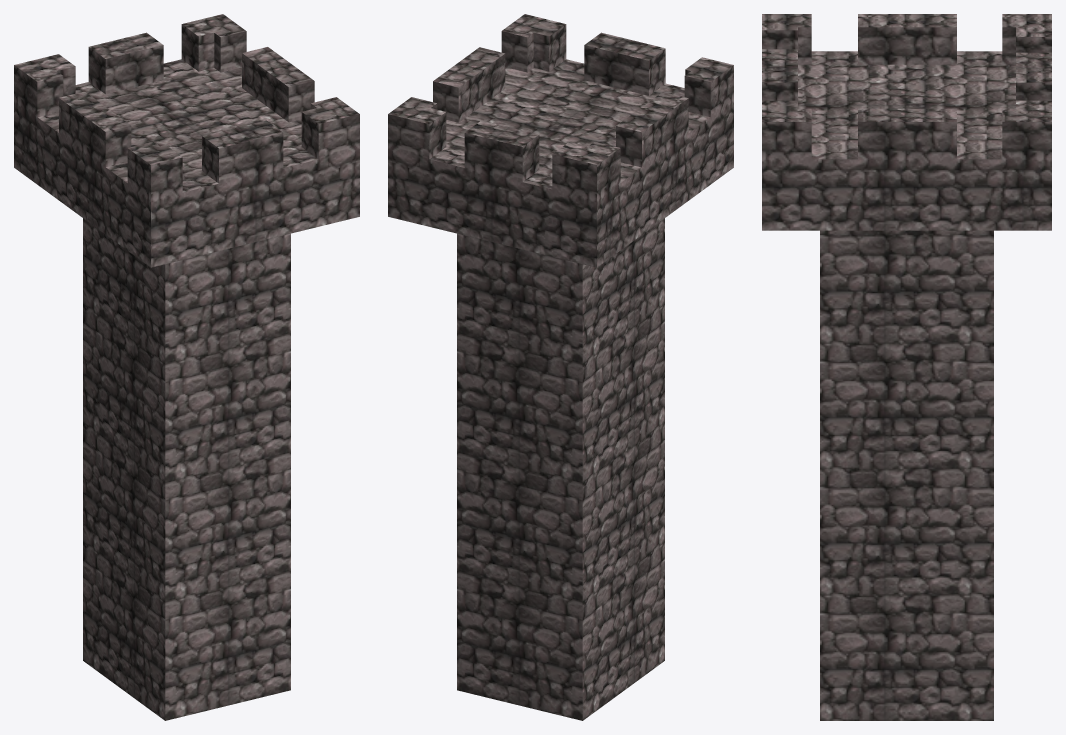
Rendered from MedievalTorreFBX.fbx.
The picture shows the model from 3 angles, left to right: view 1: azimuth 30°, elevation 25°; view 2: azimuth 150°, elevation 25°; view 3: azimuth 270°, elevation 25°; orthographic projection. The views are drawn at different scales.
Parts seen in each view (by area): view 1: Cube.001; view 2: Cube.001; view 3: Cube.001.
Part boxes in pixels (bbox=[...]): Cube.001: bbox=[14, 14, 359, 720]; Cube.001: bbox=[388, 14, 733, 720]; Cube.001: bbox=[762, 14, 1051, 720].
Bounding box in the file's own units: 719 × 1926 × 815.
1 material, 1 textured.
